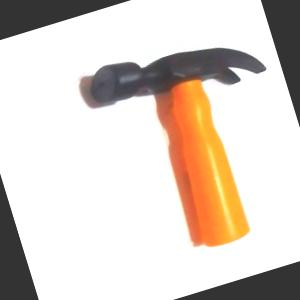martelo: (83, 18, 300, 269)
